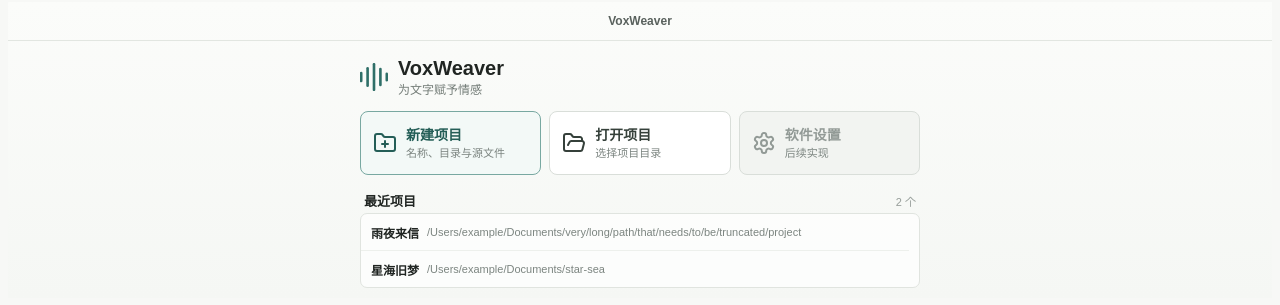
startup home page › 显示全部最近项目总数，并在成功打开后采用后端刷新顺序
Check: the header with class "recent-projects-header" shows "2 个", box [896,196,916,208]
Check: the elements with class "recent-project-name" read "雨夜来信", "星海旧梦", in this order, box [371,224,419,240]; [371,260,419,278]
Click the button with class "recent-project-open" that starts with "星海旧梦". click: (395, 270)
box: [361,251,879,287]
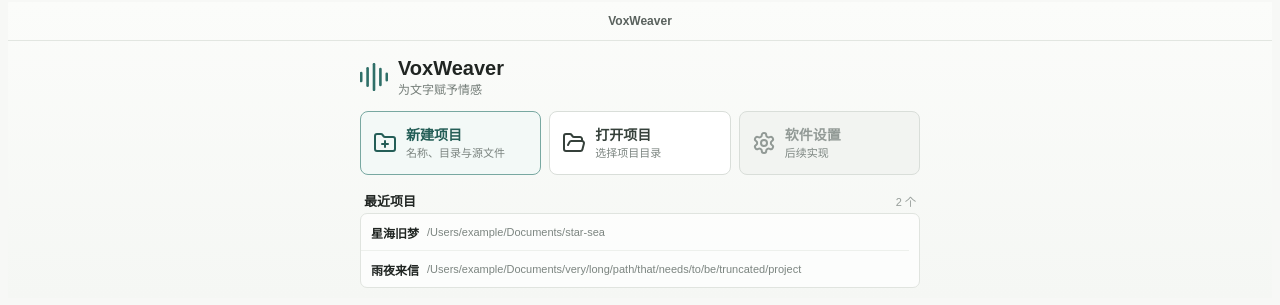
Check: the elements with class "recent-project-name" read "星海旧梦", "雨夜来信", in this order, box [371,224,419,240]; [371,260,419,278]
